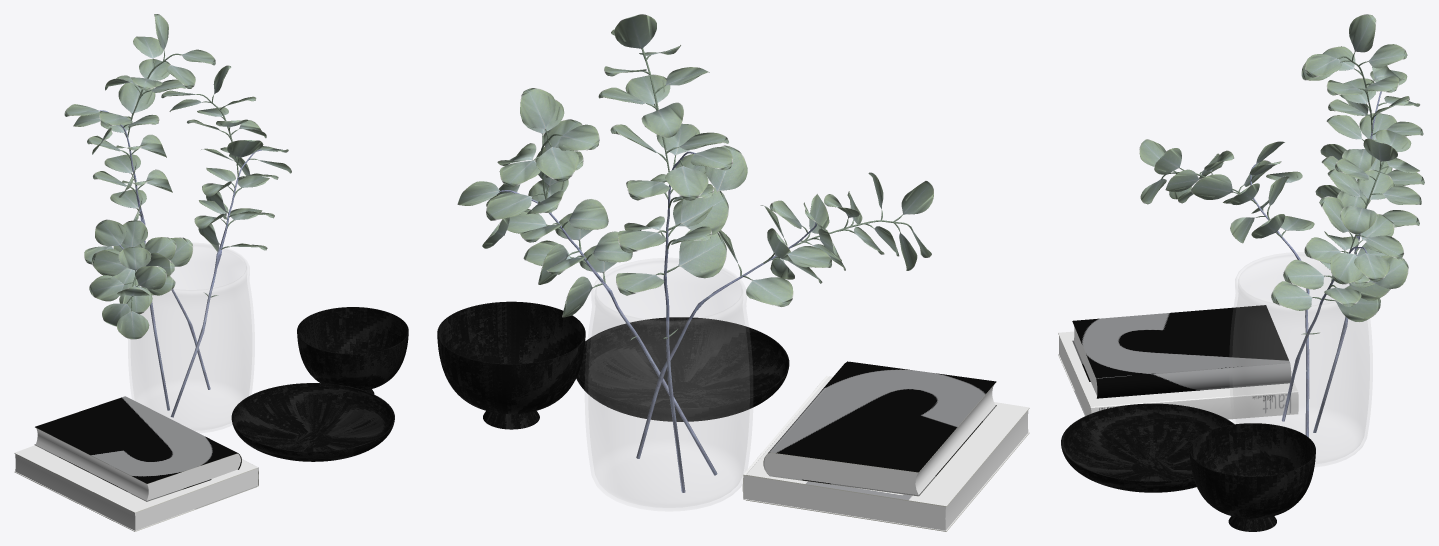
Rendered from waze-flowers.glb.
The picture shows the model from 3 angles, left to right: view 1: azimuth 30°, elevation 25°; view 2: azimuth 150°, elevation 25°; view 3: azimuth 270°, elevation 25°; orthographic projection. The views are drawn at different scales.
Parts seen in each view (by area): view 1: Декор ваза и книги (с текстураси); view 2: Декор ваза и книги (с текстураси); view 3: Декор ваза и книги (с текстураси).
Part boxes in pixels (x1=…): Декор ваза и книги (с текстураси): x1=14, y1=14, x2=408, y2=531; Декор ваза и книги (с текстураси): x1=437, y1=14, x2=1029, y2=531; Декор ваза и книги (с текстураси): x1=1058, y1=14, x2=1424, y2=531.
Size of the model in its own units: 21.54 by 20.38 by 15.86.
Materials: 9 (6 with a texture image).
